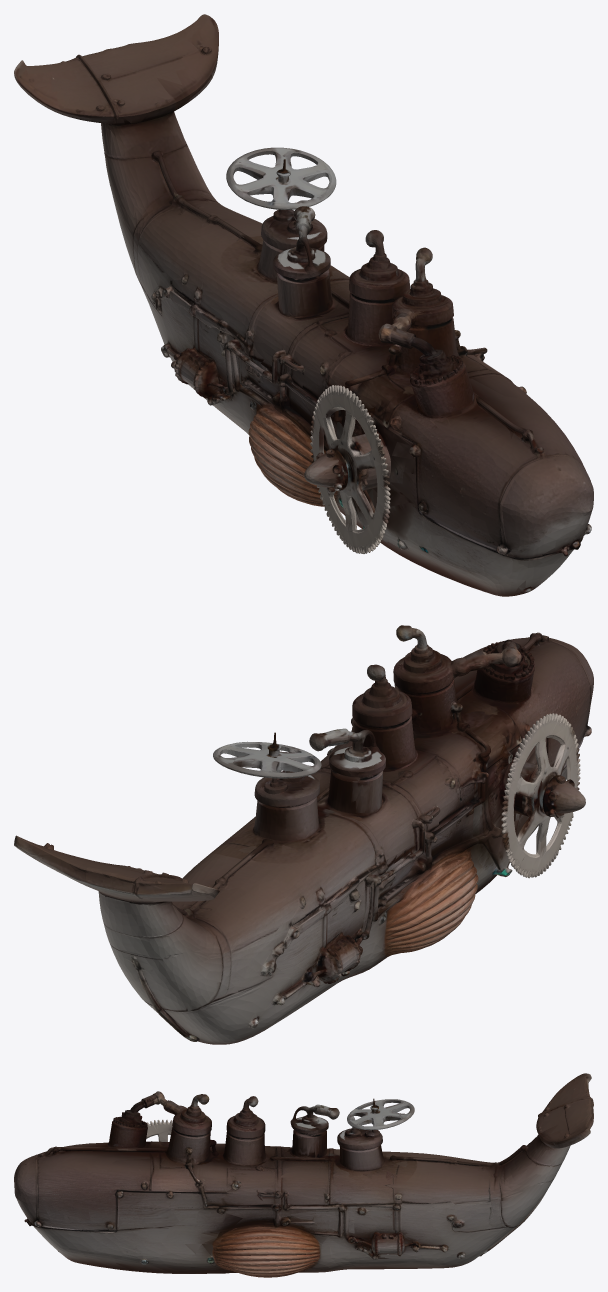
The model's file is destroyed submarine.fbx.
3 renders of one model, top to bottom at view 1: azimuth 30°, elevation 25°; view 2: azimuth 150°, elevation 25°; view 3: azimuth 270°, elevation 25°, orthographic. The views are drawn at different scales.
Parts seen in each view (by area): view 1: material; view 2: material; view 3: material.
Boxes of the visible parts, x1,y1,x2,y2 form: material: [14, 14, 593, 596]; material: [14, 625, 593, 1044]; material: [14, 1073, 593, 1277].
Size of the model in its own units: 34.3 by 36.38 by 112.
